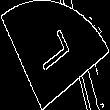L_SW: (33, 29, 77, 81)
